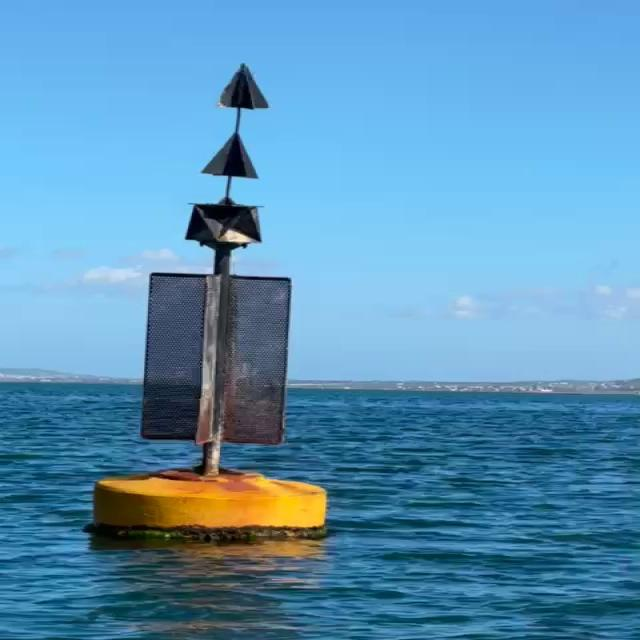marque: (95, 58, 335, 548)
